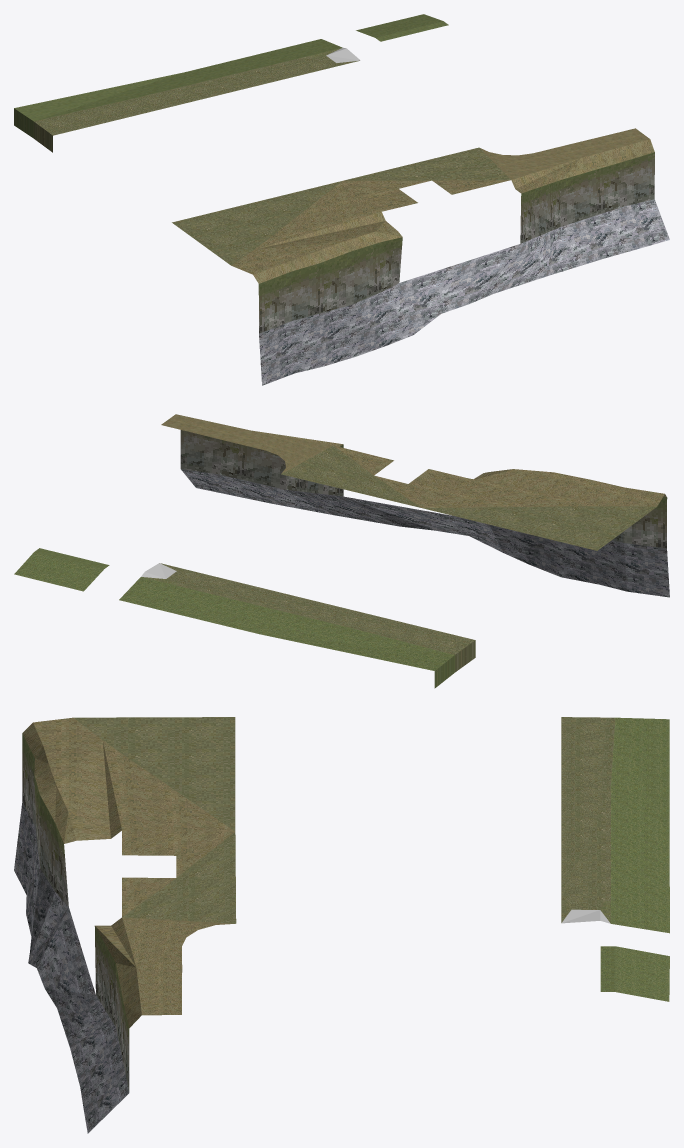
Rendered from lodassedge20.obj.
3 renders of one model, top to bottom at view 1: azimuth 30°, elevation 25°; view 2: azimuth 150°, elevation 25°; view 3: azimuth 270°, elevation 25°, orthographic. The views are drawn at different scales.
Visible parts, largest first — view 1: lodasSedge20; view 2: lodasSedge20; view 3: lodasSedge20.
Part boxes in pixels (x1,y1,x2,y2): lodasSedge20: (14, 14, 669, 385); lodasSedge20: (14, 414, 669, 688); lodasSedge20: (14, 717, 669, 1133).
Size of the model in its own units: 260 by 61.21 by 242.
